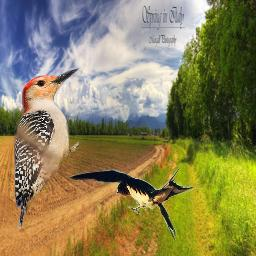Swallow: (67, 163, 217, 241)
Woodpecker: (14, 67, 79, 229)
